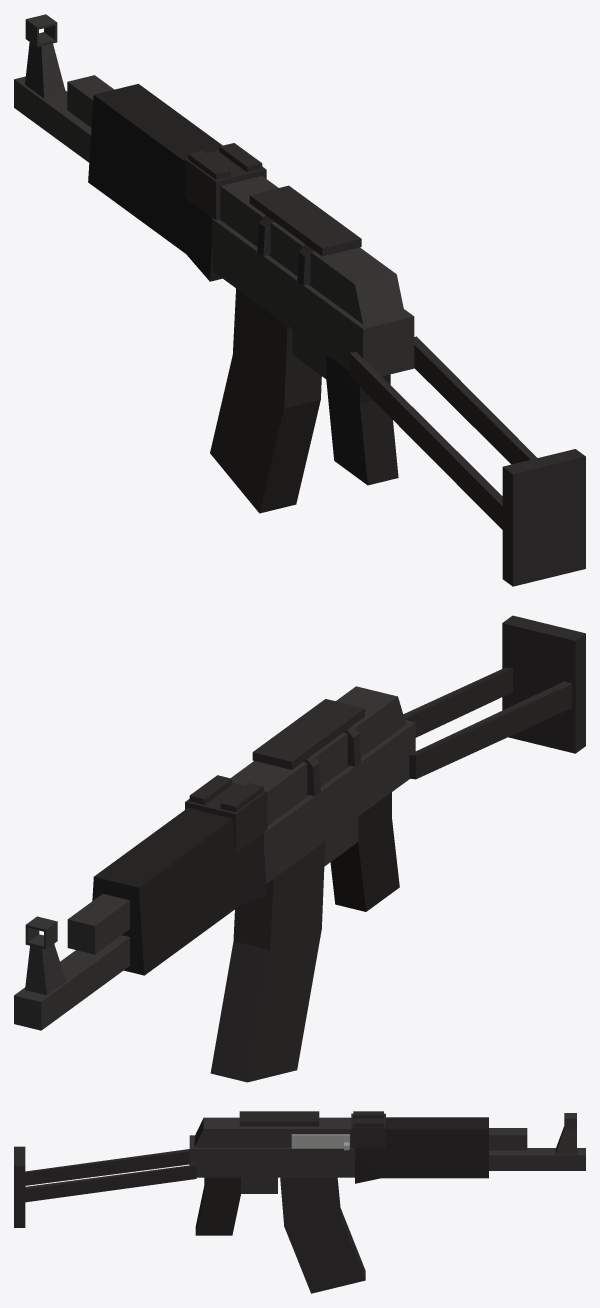
File: AutoRifle74u.FBX
The picture shows the model from 3 angles, top to bottom: view 1: azimuth 30°, elevation 25°; view 2: azimuth 150°, elevation 25°; view 3: azimuth 270°, elevation 25°; orthographic projection. The views are drawn at different scales.
Parts seen in each view (by area): view 1: AutoRifle74, AutoRifle74foldingstock, AutoRifle74mag, AKrail; view 2: AutoRifle74, AutoRifle74mag, AutoRifle74foldingstock, AKrail; view 3: AutoRifle74, AutoRifle74mag, AutoRifle74foldingstock, AKrail.
Boxes of the visible parts, box(x1,y1,x2,y2) form: AutoRifle74: box(14, 14, 414, 485); AutoRifle74foldingstock: box(349, 336, 585, 586); AutoRifle74mag: box(210, 288, 321, 513); AKrail: box(249, 185, 361, 285); AutoRifle74: box(14, 686, 415, 1030); AutoRifle74mag: box(210, 841, 325, 1082); AutoRifle74foldingstock: box(403, 615, 585, 779); AKrail: box(252, 699, 364, 796); AutoRifle74: box(189, 1111, 585, 1235); AutoRifle74mag: box(280, 1177, 365, 1293); AutoRifle74foldingstock: box(14, 1146, 196, 1227); AKrail: box(239, 1111, 319, 1126).
Size of the model in its own units: 16.09 by 199 by 66.33.
